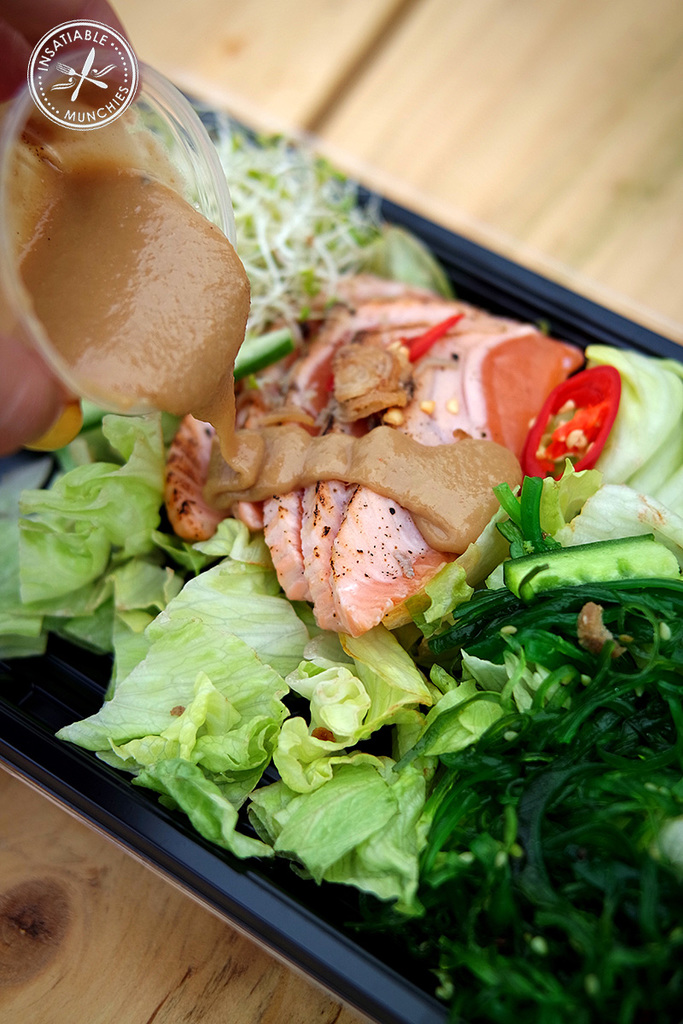salad: (0, 99, 682, 1023)
